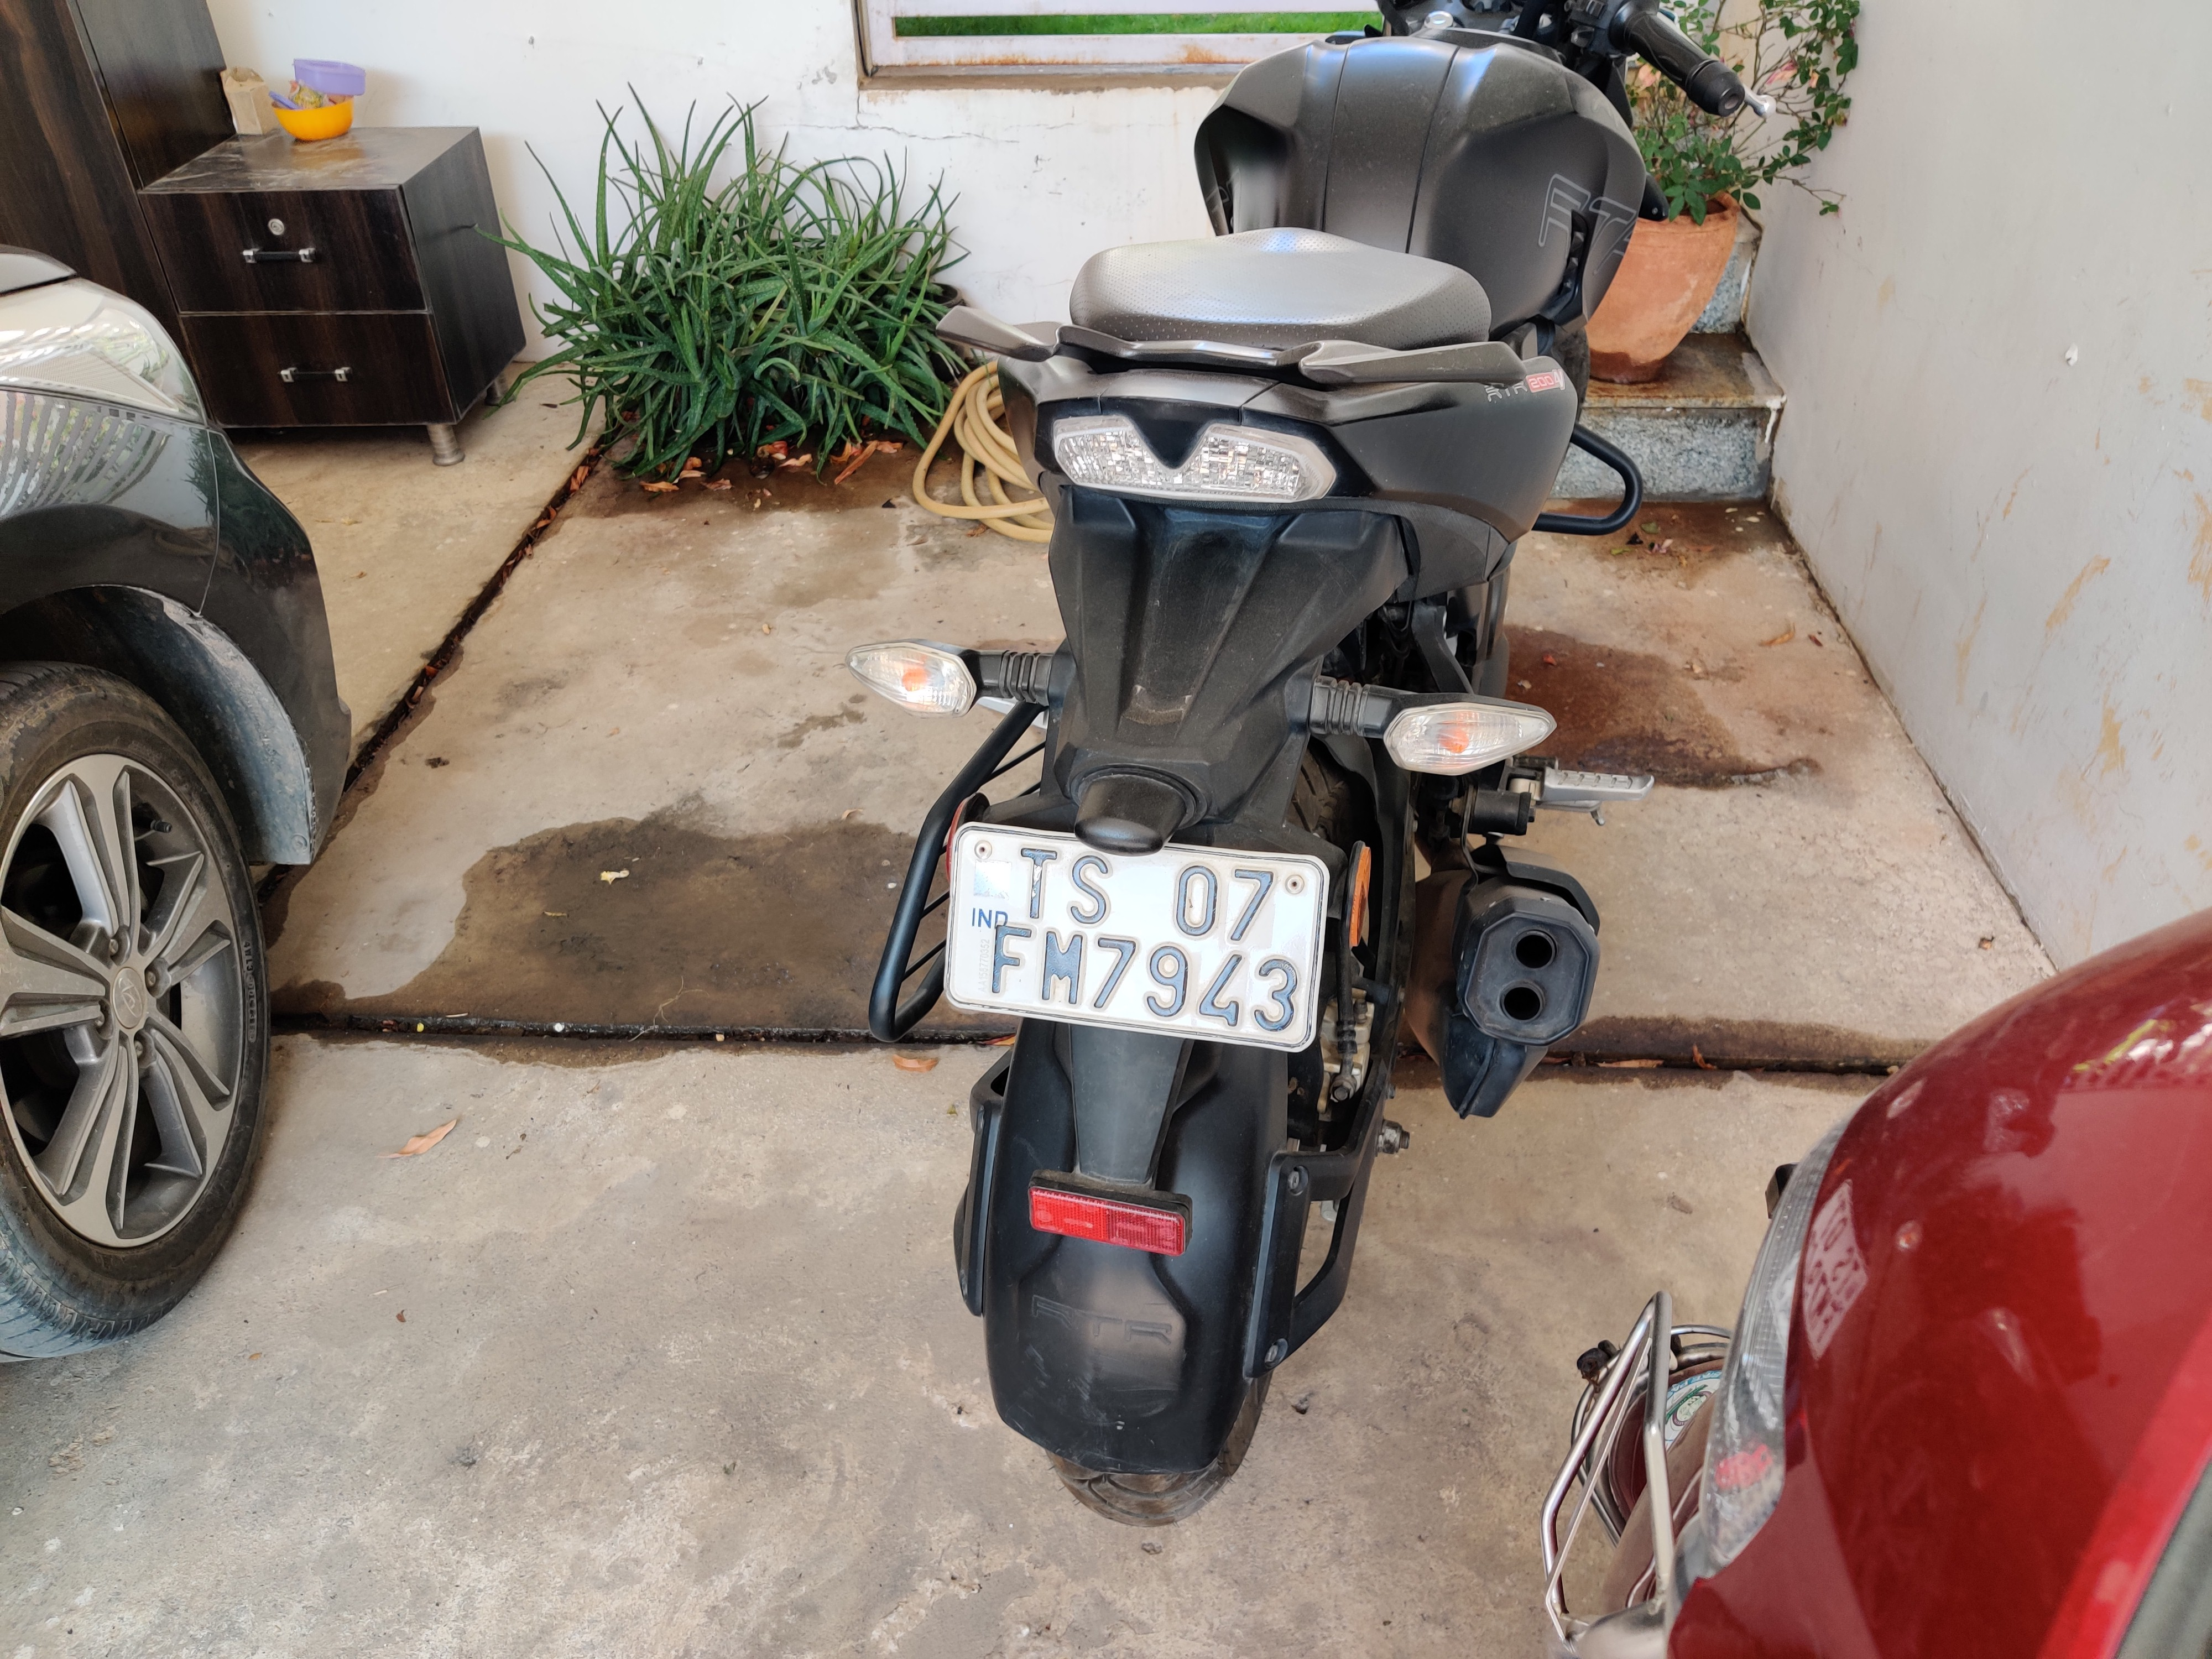plate: (926, 799, 1323, 1071)
